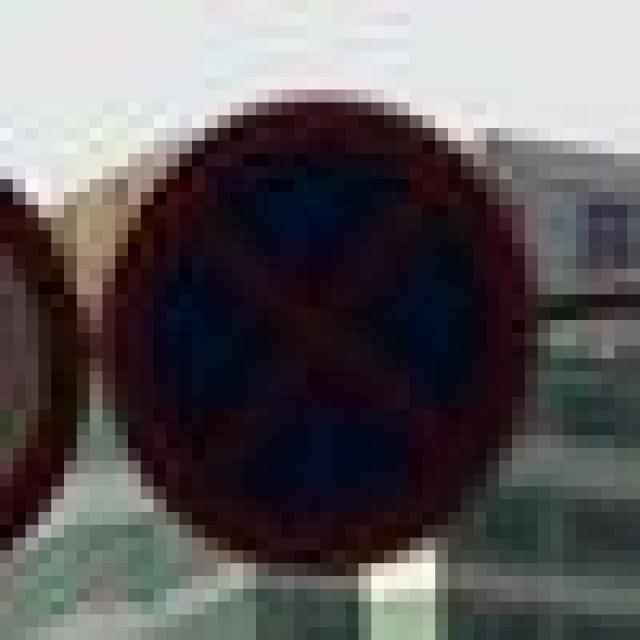no_parking: (102, 90, 525, 563)
